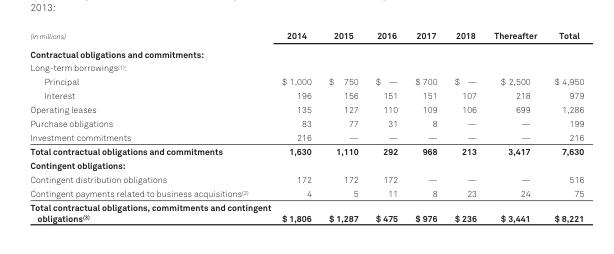table: (29, 29, 583, 223)
table column: (29, 29, 275, 223), (484, 29, 545, 223), (319, 29, 366, 223), (275, 29, 319, 223), (405, 29, 445, 223), (366, 29, 405, 223), (445, 29, 484, 223), (545, 29, 583, 223)
table column header: (29, 29, 583, 44)
table projected row header: (29, 44, 583, 60), (29, 60, 583, 74), (29, 158, 583, 172)
table row: (29, 200, 583, 223), (29, 44, 583, 60), (29, 29, 583, 44), (29, 60, 583, 74), (29, 74, 583, 88), (29, 88, 583, 102), (29, 102, 583, 116), (29, 116, 583, 130), (29, 130, 583, 144), (29, 144, 583, 158), (29, 158, 583, 172), (29, 172, 583, 186), (29, 186, 583, 200)
